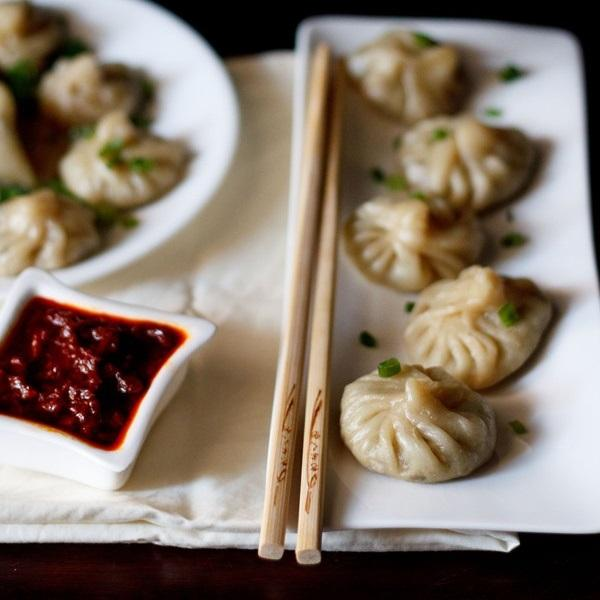momos: (341, 357, 497, 482), (404, 266, 552, 389), (345, 192, 485, 292), (401, 115, 536, 211), (347, 32, 462, 124)
